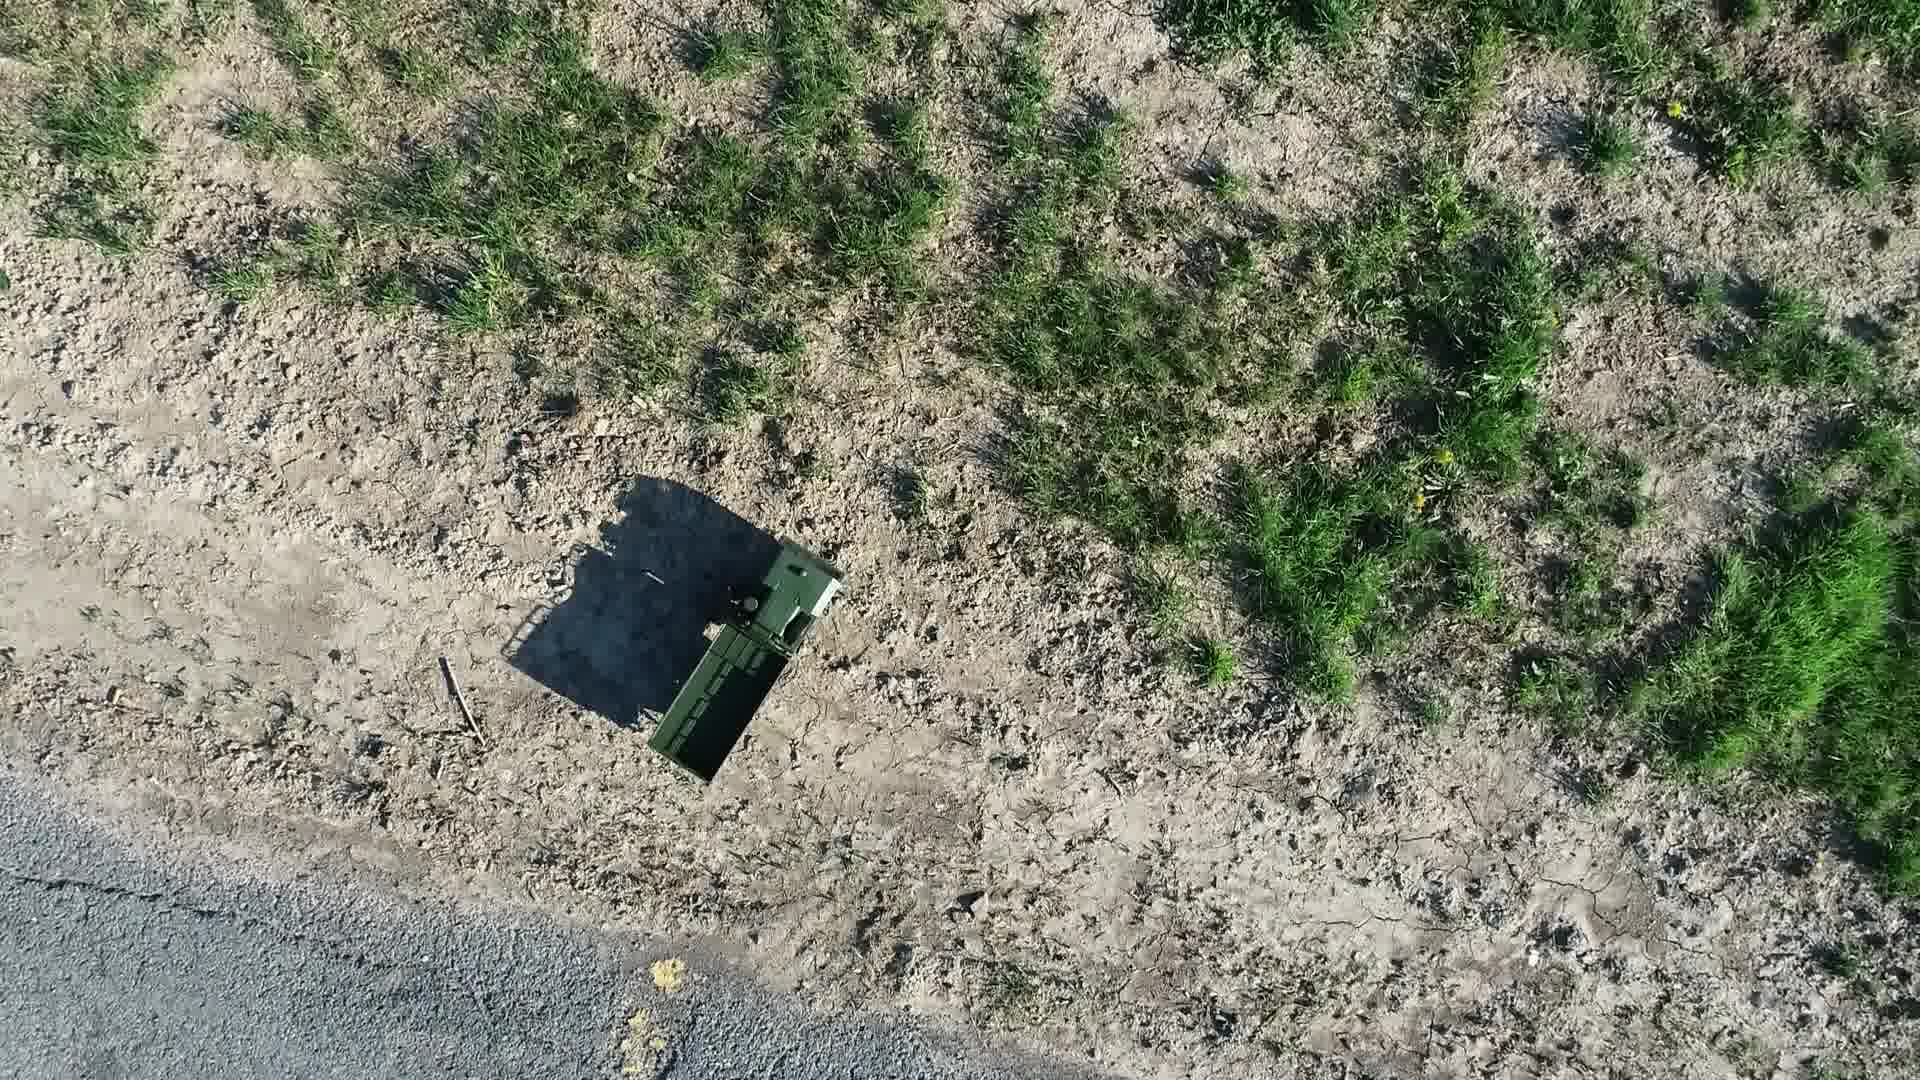transporter9: (624, 526, 855, 798)
